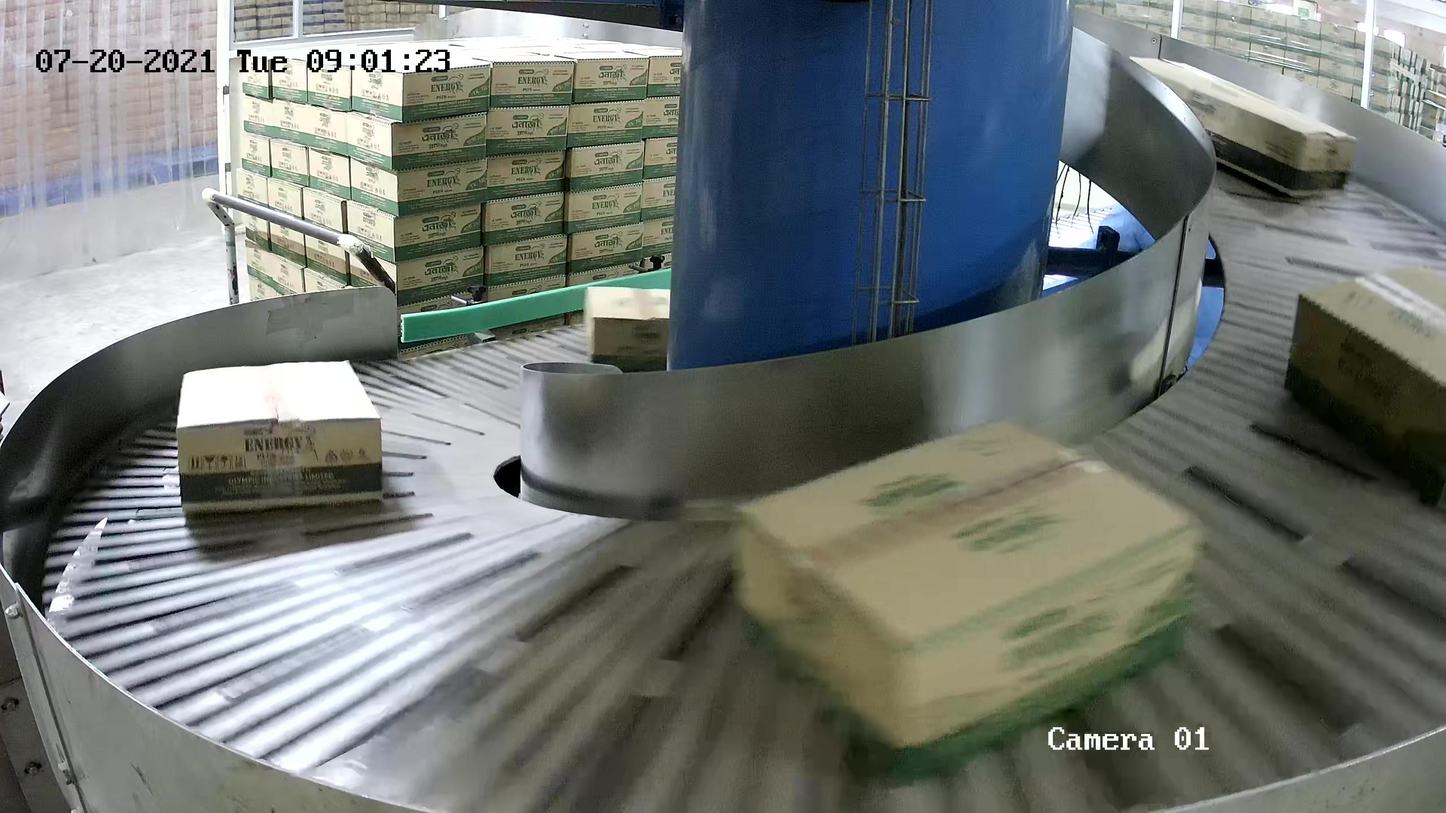Box: (729, 414, 1204, 783), (1282, 262, 1446, 508), (1122, 52, 1357, 201), (173, 356, 387, 517), (581, 284, 671, 371)
